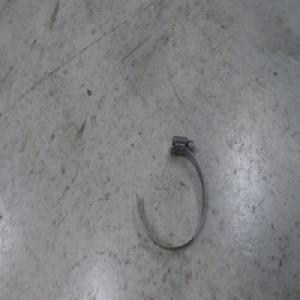AdjustableClamp: (136, 134, 206, 250)
